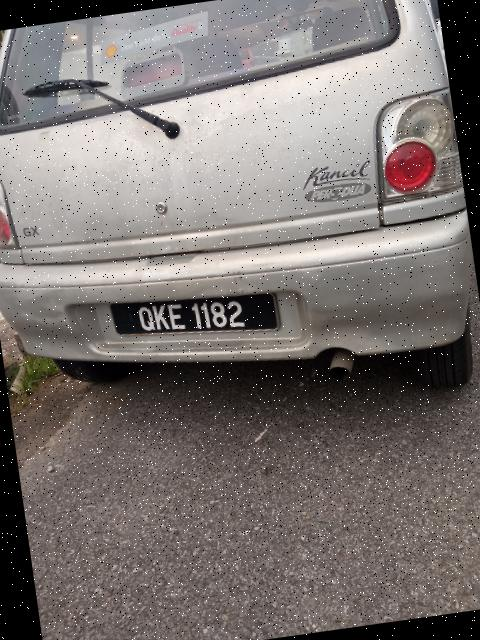License_Plate: (112, 280, 283, 354)
car: (1, 1, 480, 447)
